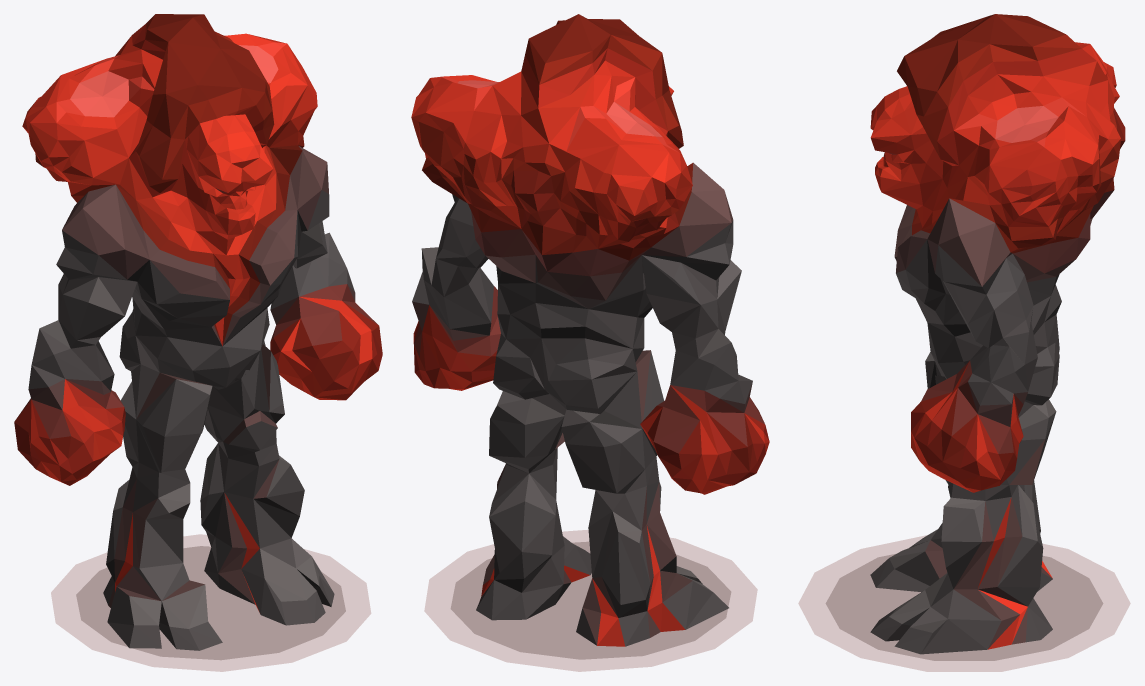
The model's file is ranger.glb.
The picture shows the model from 3 angles, left to right: view 1: azimuth 30°, elevation 25°; view 2: azimuth 150°, elevation 25°; view 3: azimuth 270°, elevation 25°; orthographic projection. The views are drawn at different scales.
Size of the model in its own units: 365 by 593 by 304.
2 materials, 2 textured.
